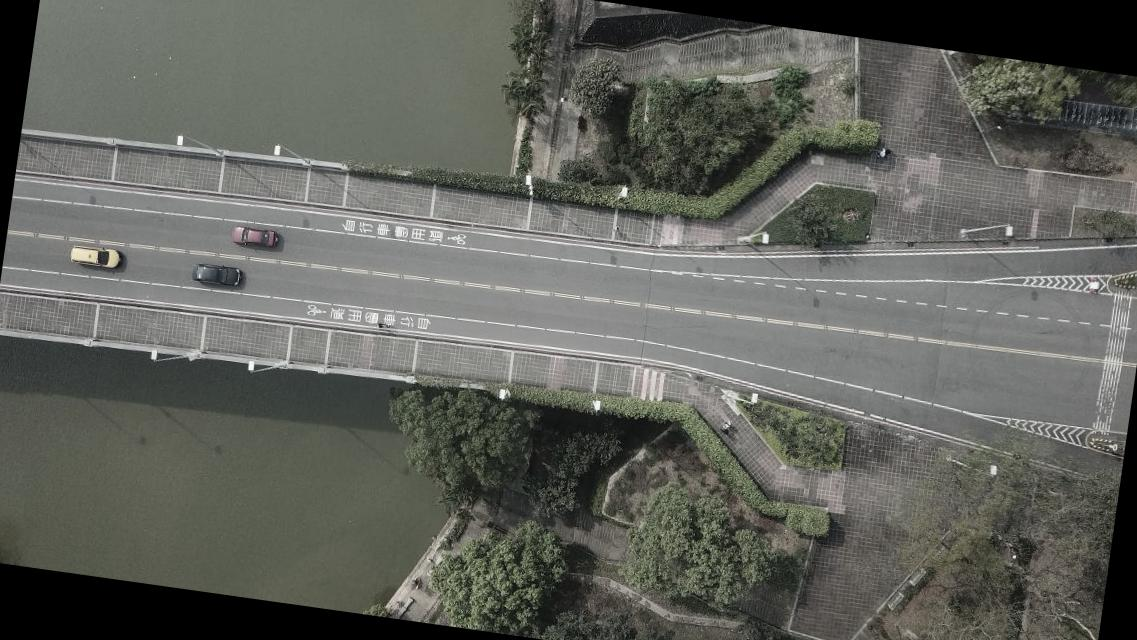vehicle: (69, 244, 122, 272), (191, 261, 243, 288), (232, 225, 280, 251)
